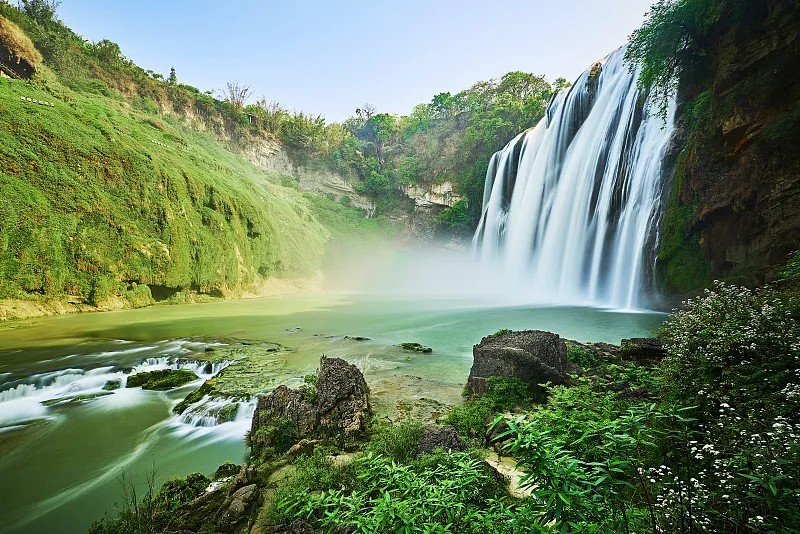Huangguoshu: (469, 45, 676, 309)
